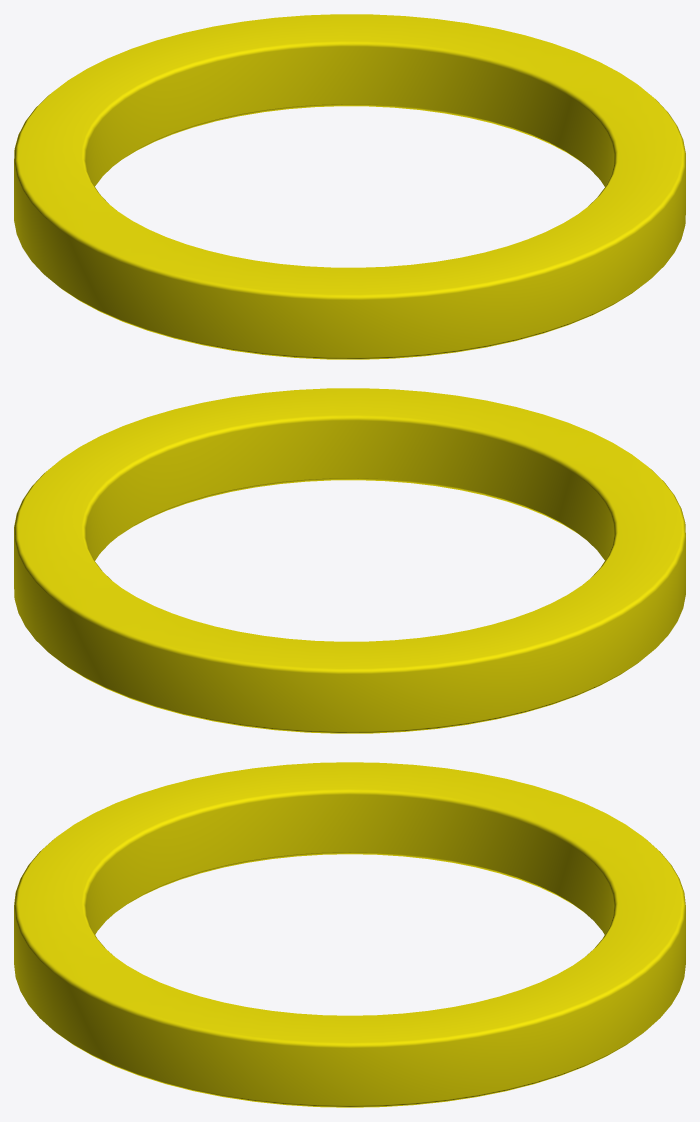
3 views of the same model, one above another, from view 1: azimuth 30°, elevation 25°; view 2: azimuth 150°, elevation 25°; view 3: azimuth 270°, elevation 25° (orthographic).
Parts seen in each view (by area): view 1: seal_body; view 2: seal_body; view 3: seal_body.
Boxes of the visible parts, box(x1,y1,x2,y2) form: seal_body: box(14, 14, 685, 359); seal_body: box(14, 388, 685, 733); seal_body: box(14, 762, 685, 1107).
Bounding box in the file's own units: 0.0444 × 0.00476 × 0.0444.
